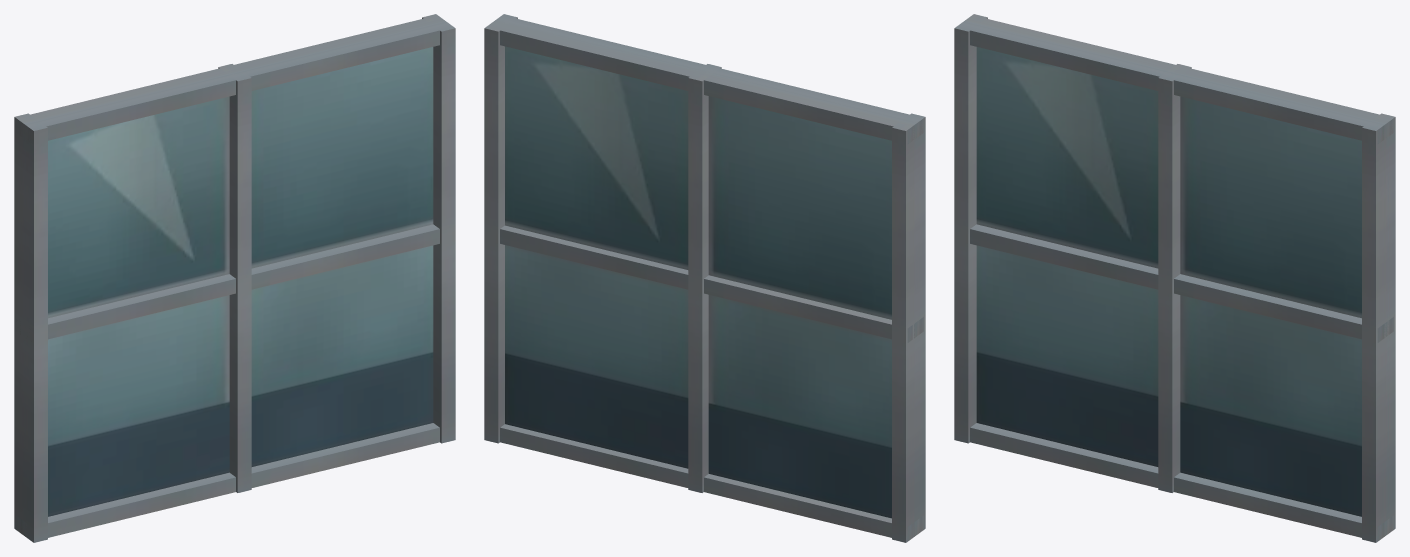
The model's file is debris_tokyo_curtain_wall.glb.
3 views of the same model, side by side, from view 1: azimuth 30°, elevation 25°; view 2: azimuth 150°, elevation 25°; view 3: azimuth 330°, elevation 25° (orthographic).
Visible parts, largest first — view 1: debris_tokyo_curtain_wall; view 2: debris_tokyo_curtain_wall; view 3: debris_tokyo_curtain_wall.
Part boxes in pixels (x1,y1,x2,y2): debris_tokyo_curtain_wall: (14,14,455,542); debris_tokyo_curtain_wall: (484,14,925,542); debris_tokyo_curtain_wall: (954,14,1395,542).
Bounding box in the file's own units: 3 × 2.8 × 0.2399.
1 material, 1 textured.
